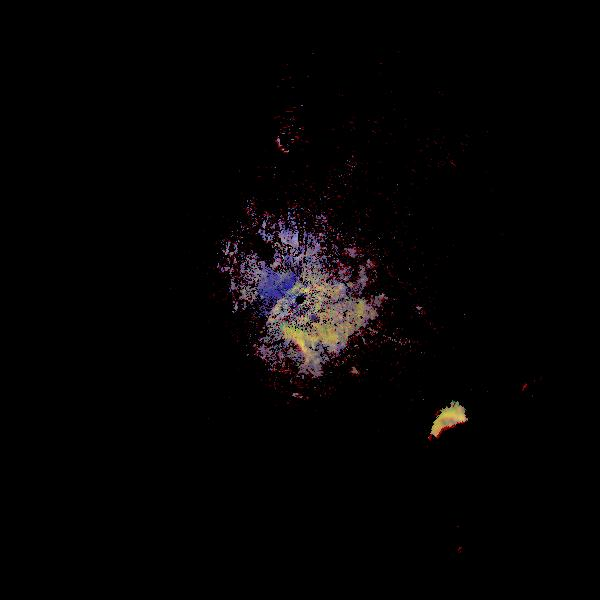roost: (254, 327, 323, 396), (429, 405, 489, 465)
